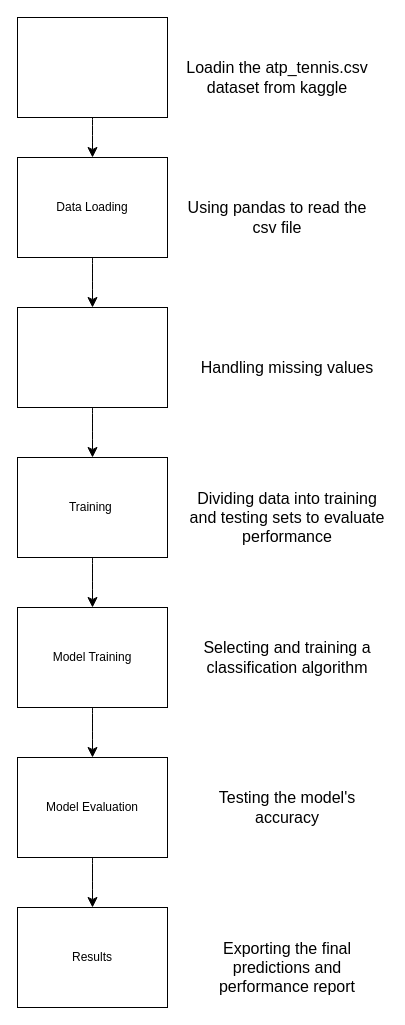
Some shapes in this 405 by 1025 pixel diagram are drawn without their labels. The shapes that lost their labels are listed below. From the top down, each one's centre as x and y in pixels, then its label:
At pixel 92 67: "Data Collection".
At pixel 92 357: "Data Preprocessing".
